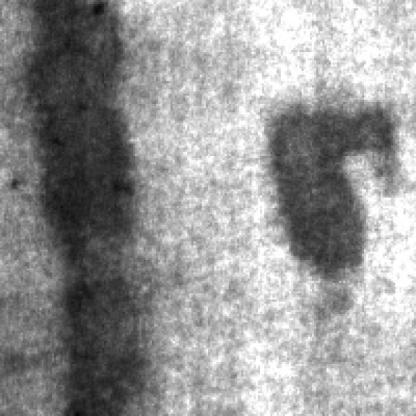patches: (31, 2, 146, 272), (269, 108, 397, 283), (65, 266, 152, 416)
